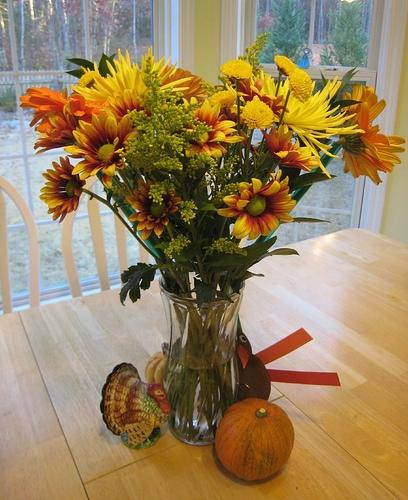pumpkin: (215, 398, 294, 482), (144, 341, 169, 388)
